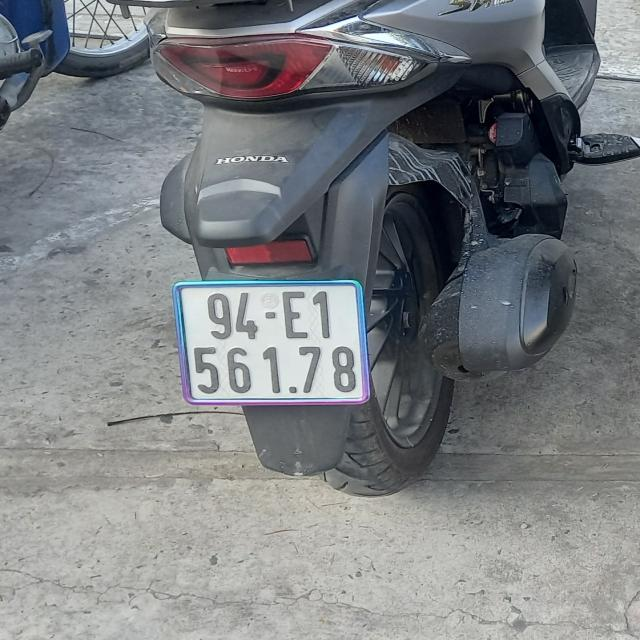1: (312, 289, 335, 338), (263, 346, 281, 391)
4: (236, 292, 260, 342)
5: (192, 345, 221, 394)
6: (226, 347, 251, 394)
7: (299, 345, 321, 395)
8: (329, 346, 358, 395)
9: (207, 293, 233, 339)
E: (282, 288, 309, 338)
